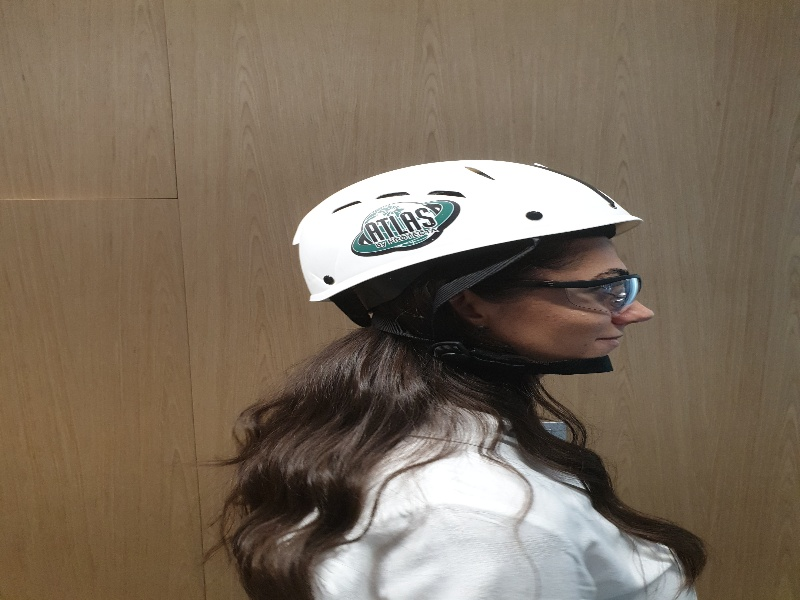Baret: (293, 160, 642, 280)
Gozluk: (467, 274, 645, 308)
